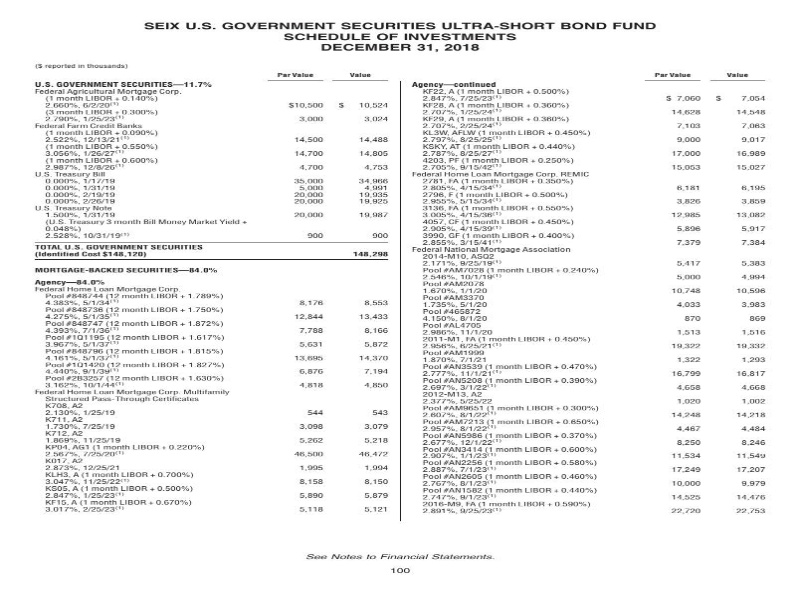table: (19, 57, 408, 535), (393, 66, 787, 528)
